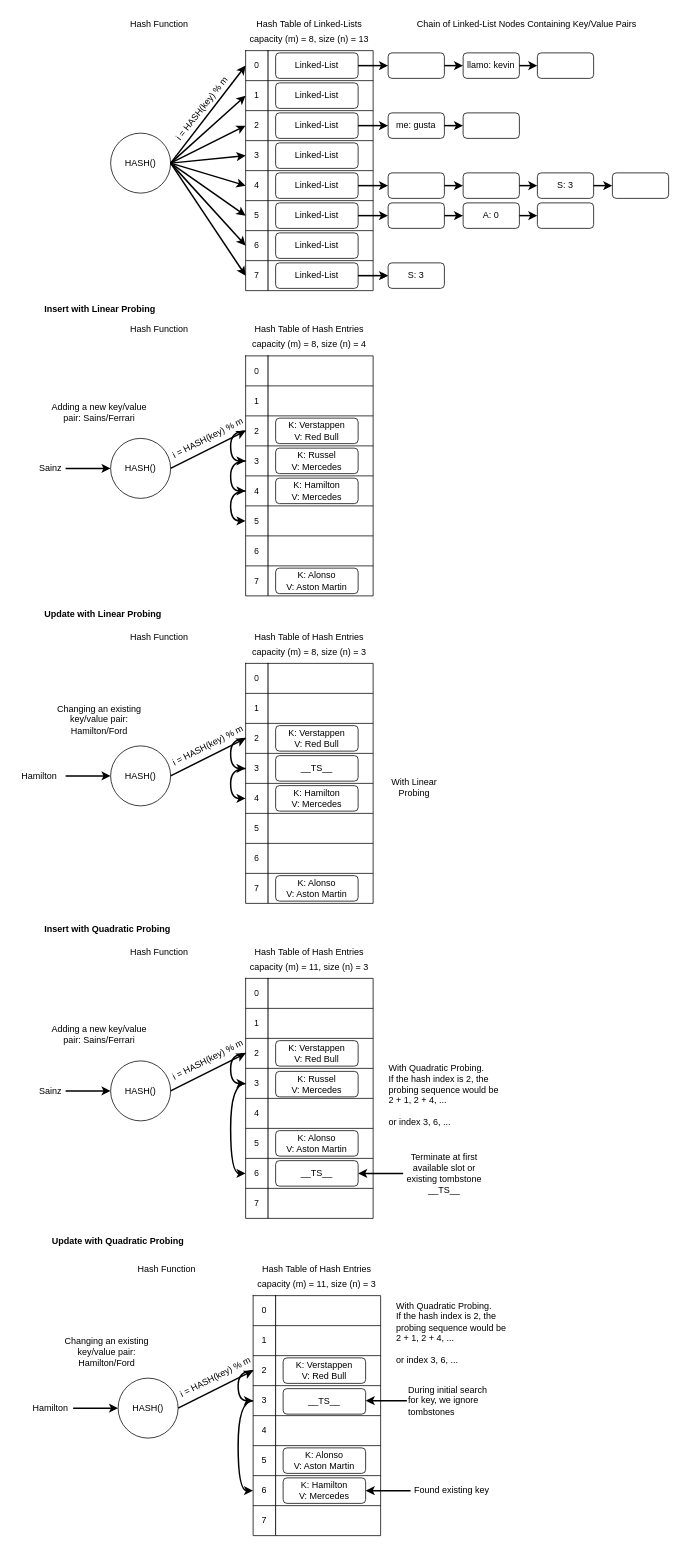
The diagram is 682 pixels wide and 1549 high, and some of its shapes have lost their labels. The shapes that lost their labels are listed below. From the top down, each one's centre as x and y in pixels, then its label:
the point at 415,65: hola: amigo
the point at 565,65: soy: gato
the point at 490,125: hacer: codigo
the point at 415,185: H: 1
the point at 490,185: A: 3
the point at 640,185: H: 7
the point at 415,215: M: C
the point at 565,215: P: d
